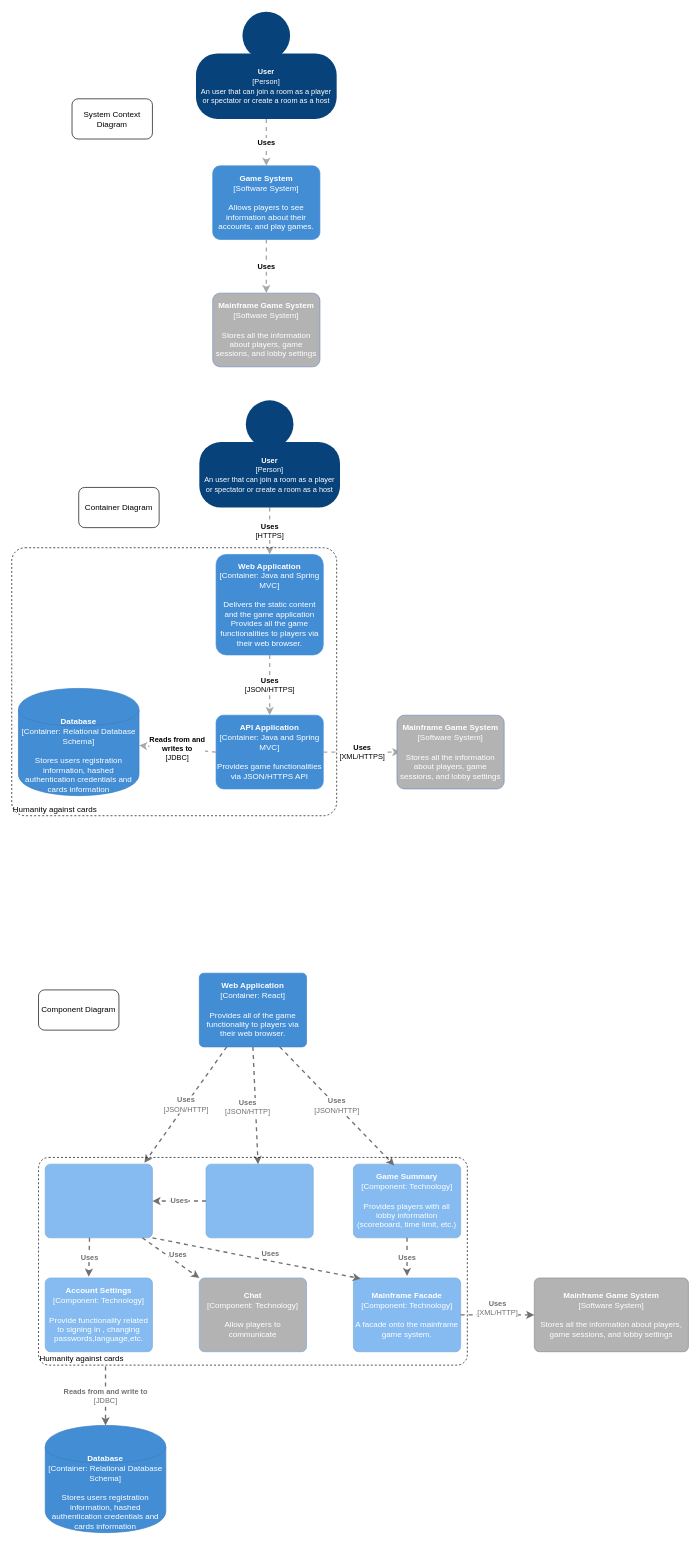
The diagram is 700 pixels wide and 1544 high, and some of its shapes have lost their labels. The shapes that lost their labels are listed below. From the top down, each one's box as (x1, y1, x2, y2) in pixels, then its label:
(45, 1163, 152, 1238): Sign In [Component: T echnology ] Allow users to sign in to their accounts.
(205, 1163, 313, 1238): Register [Component: T echnology ] Allow users to create a new account.
